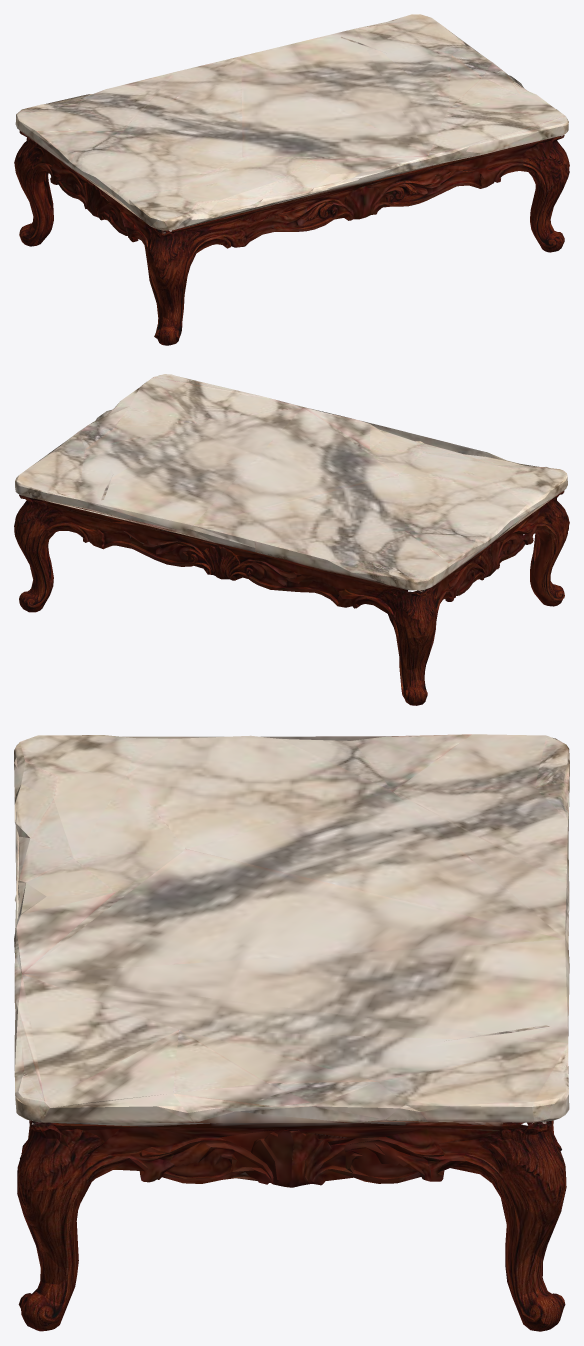
Rendered from w5lowtable.glb.
3 renders of one model, top to bottom at view 1: azimuth 30°, elevation 25°; view 2: azimuth 150°, elevation 25°; view 3: azimuth 270°, elevation 25°, orthographic. The views are drawn at different scales.
Parts seen in each view (by area): view 1: output_unwrapped; view 2: output_unwrapped; view 3: output_unwrapped.
Part boxes in pixels (x1,y1,x2,y2): output_unwrapped: (14, 14, 569, 345); output_unwrapped: (14, 374, 569, 705); output_unwrapped: (14, 734, 569, 1331).
Size of the model in its own units: 1.2 by 0.3582 by 0.7598.
1 material, 1 textured.
